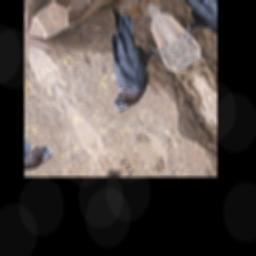Crow: (67, 0, 190, 115)
